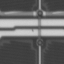dust: (31, 28, 34, 31)
